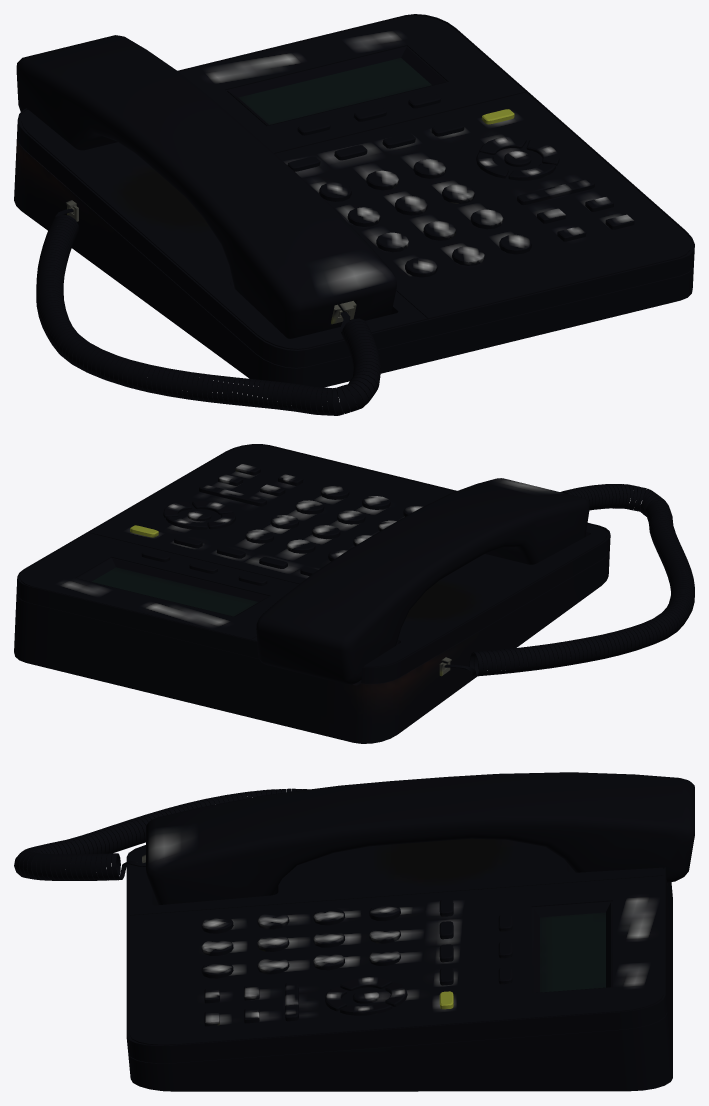
File: Phone.fbx
3 renders of one model, top to bottom at view 1: azimuth 30°, elevation 25°; view 2: azimuth 150°, elevation 25°; view 3: azimuth 270°, elevation 25°, orthographic. The views are drawn at different scales.
Parts seen in each view (by area): view 1: Phone; view 2: Phone; view 3: Phone.
Part boxes in pixels (x1,y1,x2,y2): Phone: (14, 14, 694, 415); Phone: (14, 444, 694, 743); Phone: (14, 772, 694, 1091).
Size of the model in its own units: 0.5883 by 0.1415 by 0.6256.
